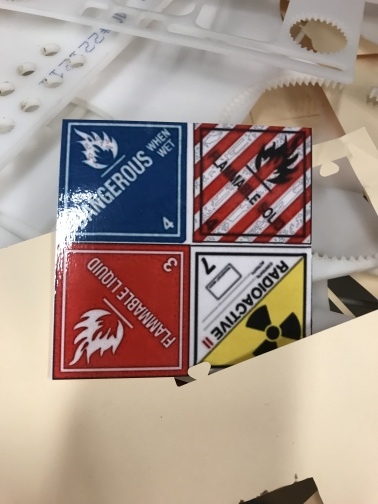DangerousWhenWet: (58, 120, 190, 242)
FlammableLiquid: (51, 242, 189, 379)
FlammableSolid: (193, 122, 316, 245)
Radioactive: (189, 245, 311, 373)
